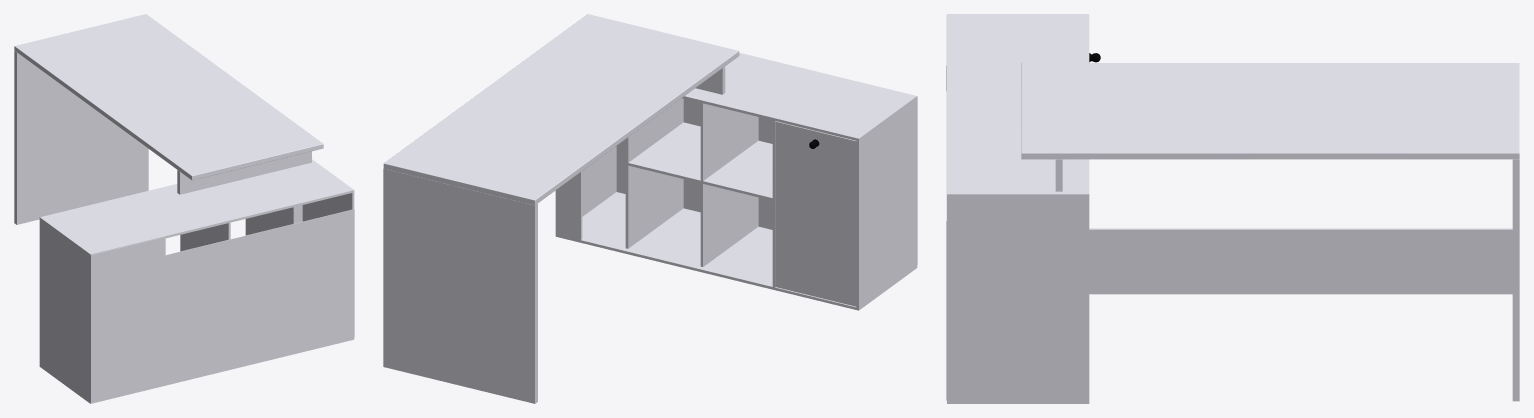
The model's file is escritorio.obj.
3 renders of one model, left to right at view 1: azimuth 30°, elevation 25°; view 2: azimuth 150°, elevation 25°; view 3: azimuth 270°, elevation 25°, orthographic. The views are drawn at different scales.
Visible parts, largest first — view 1: BossDesk_Mesh; view 2: BossDesk_Mesh; view 3: BossDesk_Mesh.
Part boxes in pixels (x1,y1,x2,y2): BossDesk_Mesh: (14,14,354,403); BossDesk_Mesh: (383,14,917,403); BossDesk_Mesh: (946,14,1519,403).
Bounding box in the file's own units: 2.7 × 1.73 × 3.62.
Materials: 2 (2 with a texture image).
